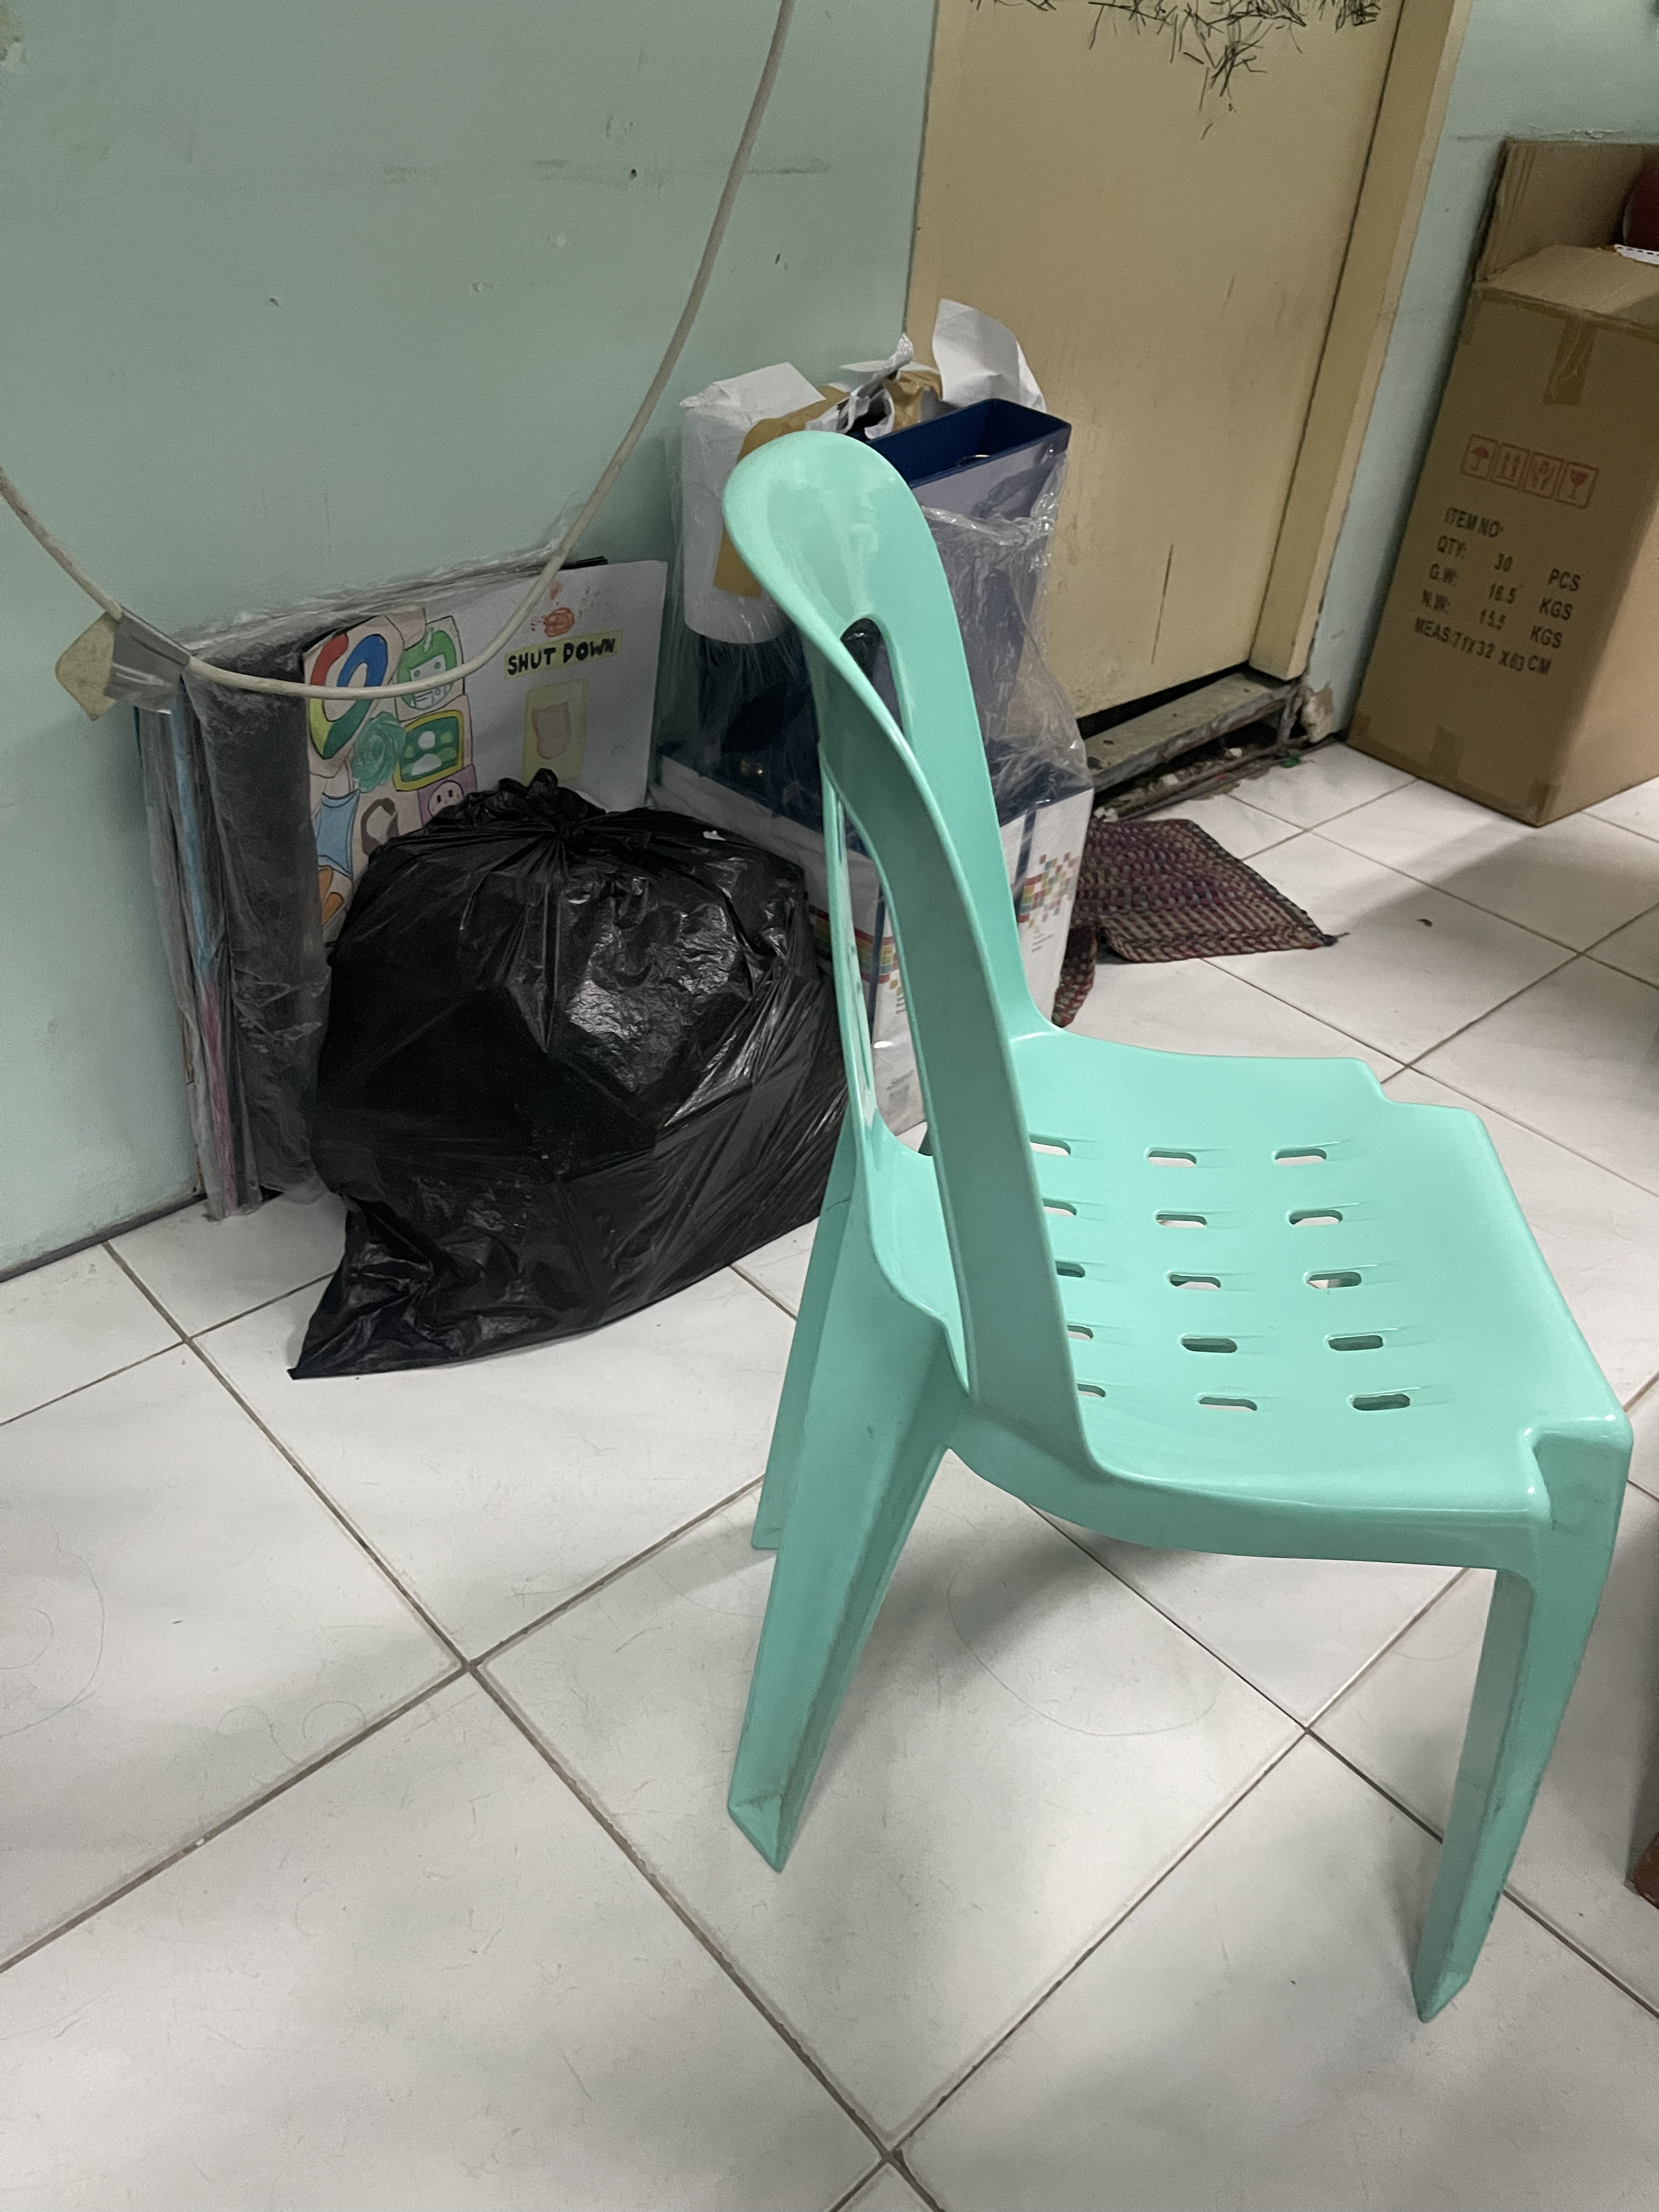chair2: (713, 423, 1635, 2043)
